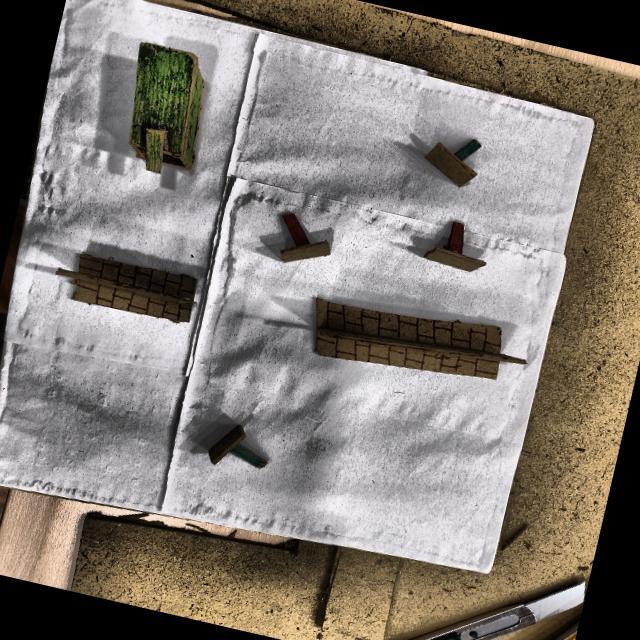Dead soldier -enemy-: (422, 218, 487, 274), (265, 210, 333, 263)
Dead soldier -frd-: (195, 415, 278, 474), (422, 131, 487, 189)
Tank: (127, 43, 207, 174)
Wall: (312, 299, 527, 383), (57, 255, 200, 326)
